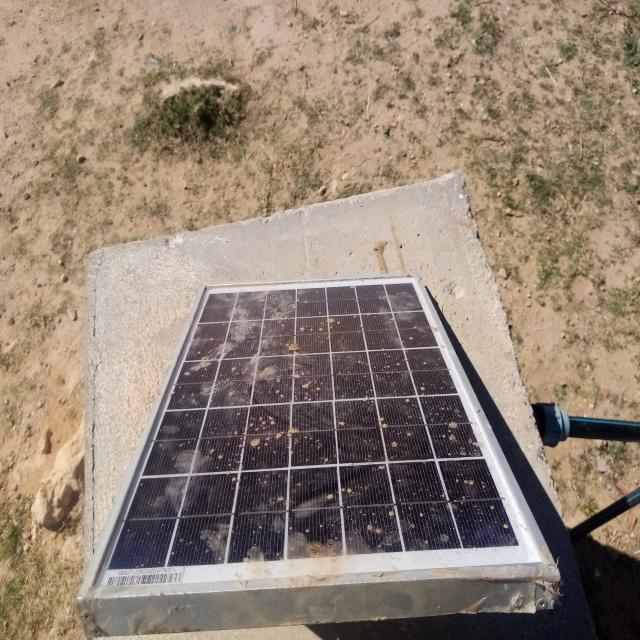faulty: (83, 279, 548, 597)
